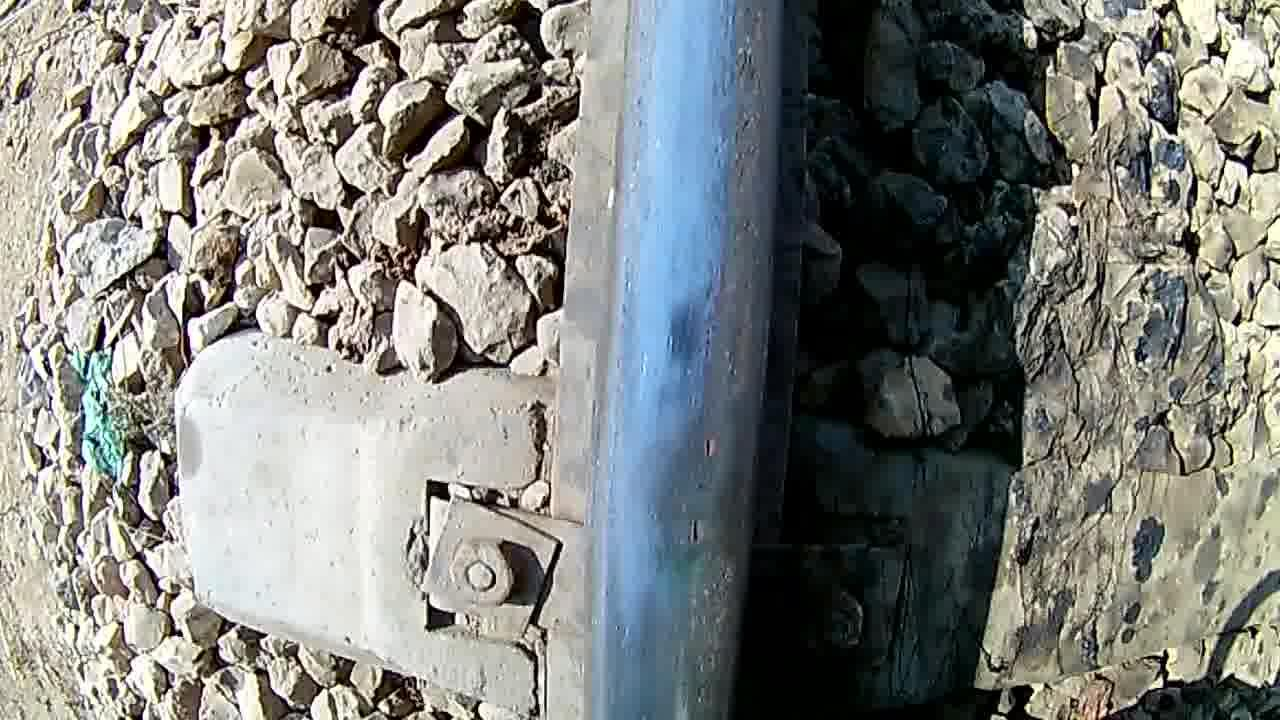crack: (614, 0, 790, 676)
